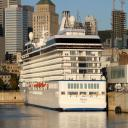cruises: (19, 12, 110, 113)
